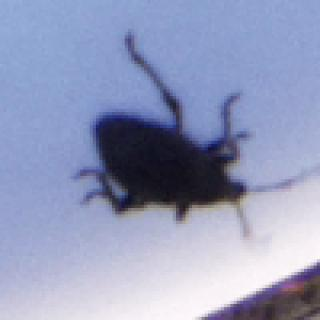bvw: (70, 28, 318, 245)
